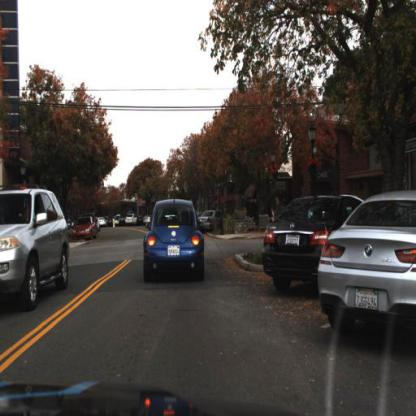car: (316, 190, 416, 332), (259, 194, 358, 292), (1, 186, 70, 313), (142, 196, 207, 285), (71, 213, 101, 243), (198, 204, 228, 234), (96, 215, 109, 229), (126, 213, 137, 227)
